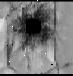good_void: (6, 2, 60, 52)
